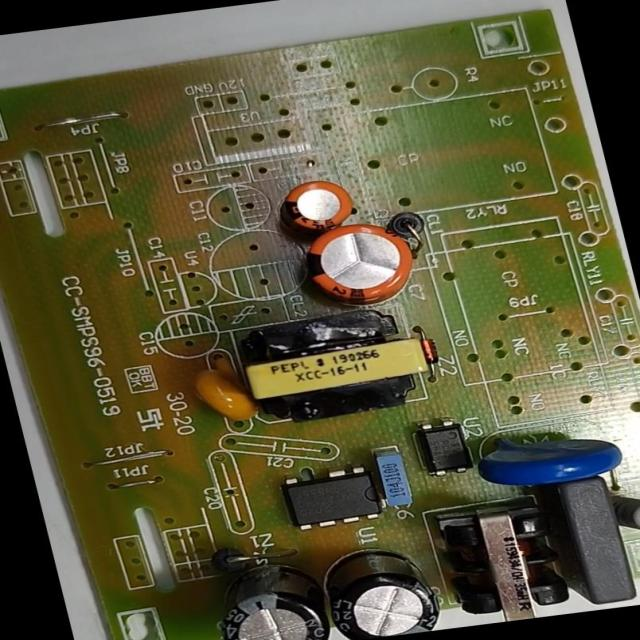Cap1: (264, 219, 435, 326)
Cap2: (263, 168, 367, 241)
Cap3: (310, 532, 458, 639)
Cap4: (199, 549, 339, 639)
MOSFET: (268, 459, 402, 534)
Mov: (463, 415, 639, 499)
Resistor: (601, 479, 639, 544)
Transformer: (226, 295, 463, 432), (412, 490, 587, 629)
